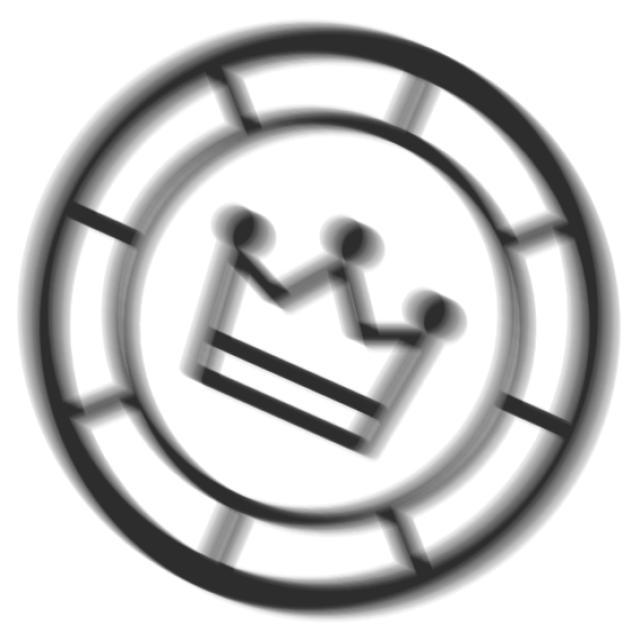coin: (16, 17, 626, 627)
